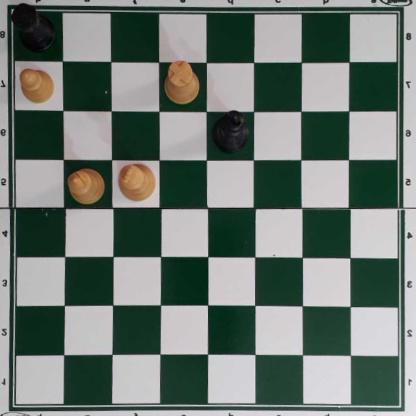black-king: (212, 109, 251, 153)
black-rook: (13, 1, 58, 53)
white-bishop: (66, 166, 106, 204)
white-king: (117, 161, 158, 202)
white-pawn: (19, 66, 55, 103)
white-rook: (163, 61, 202, 104)
